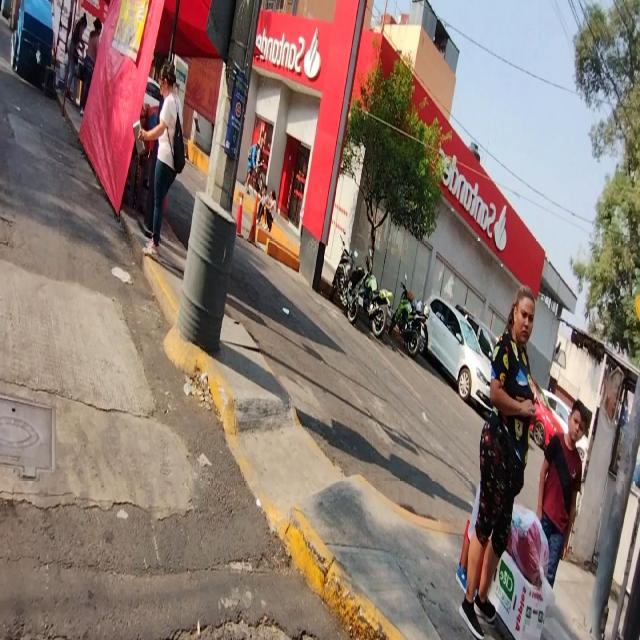adult: (461, 283, 538, 640), (538, 397, 588, 601), (140, 57, 185, 264), (80, 17, 102, 116), (63, 13, 87, 101), (245, 140, 260, 194)
